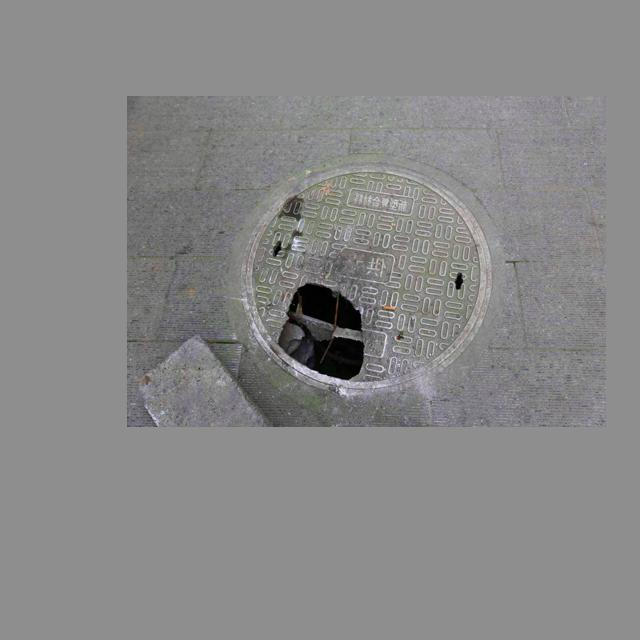broke: (241, 161, 493, 390)
